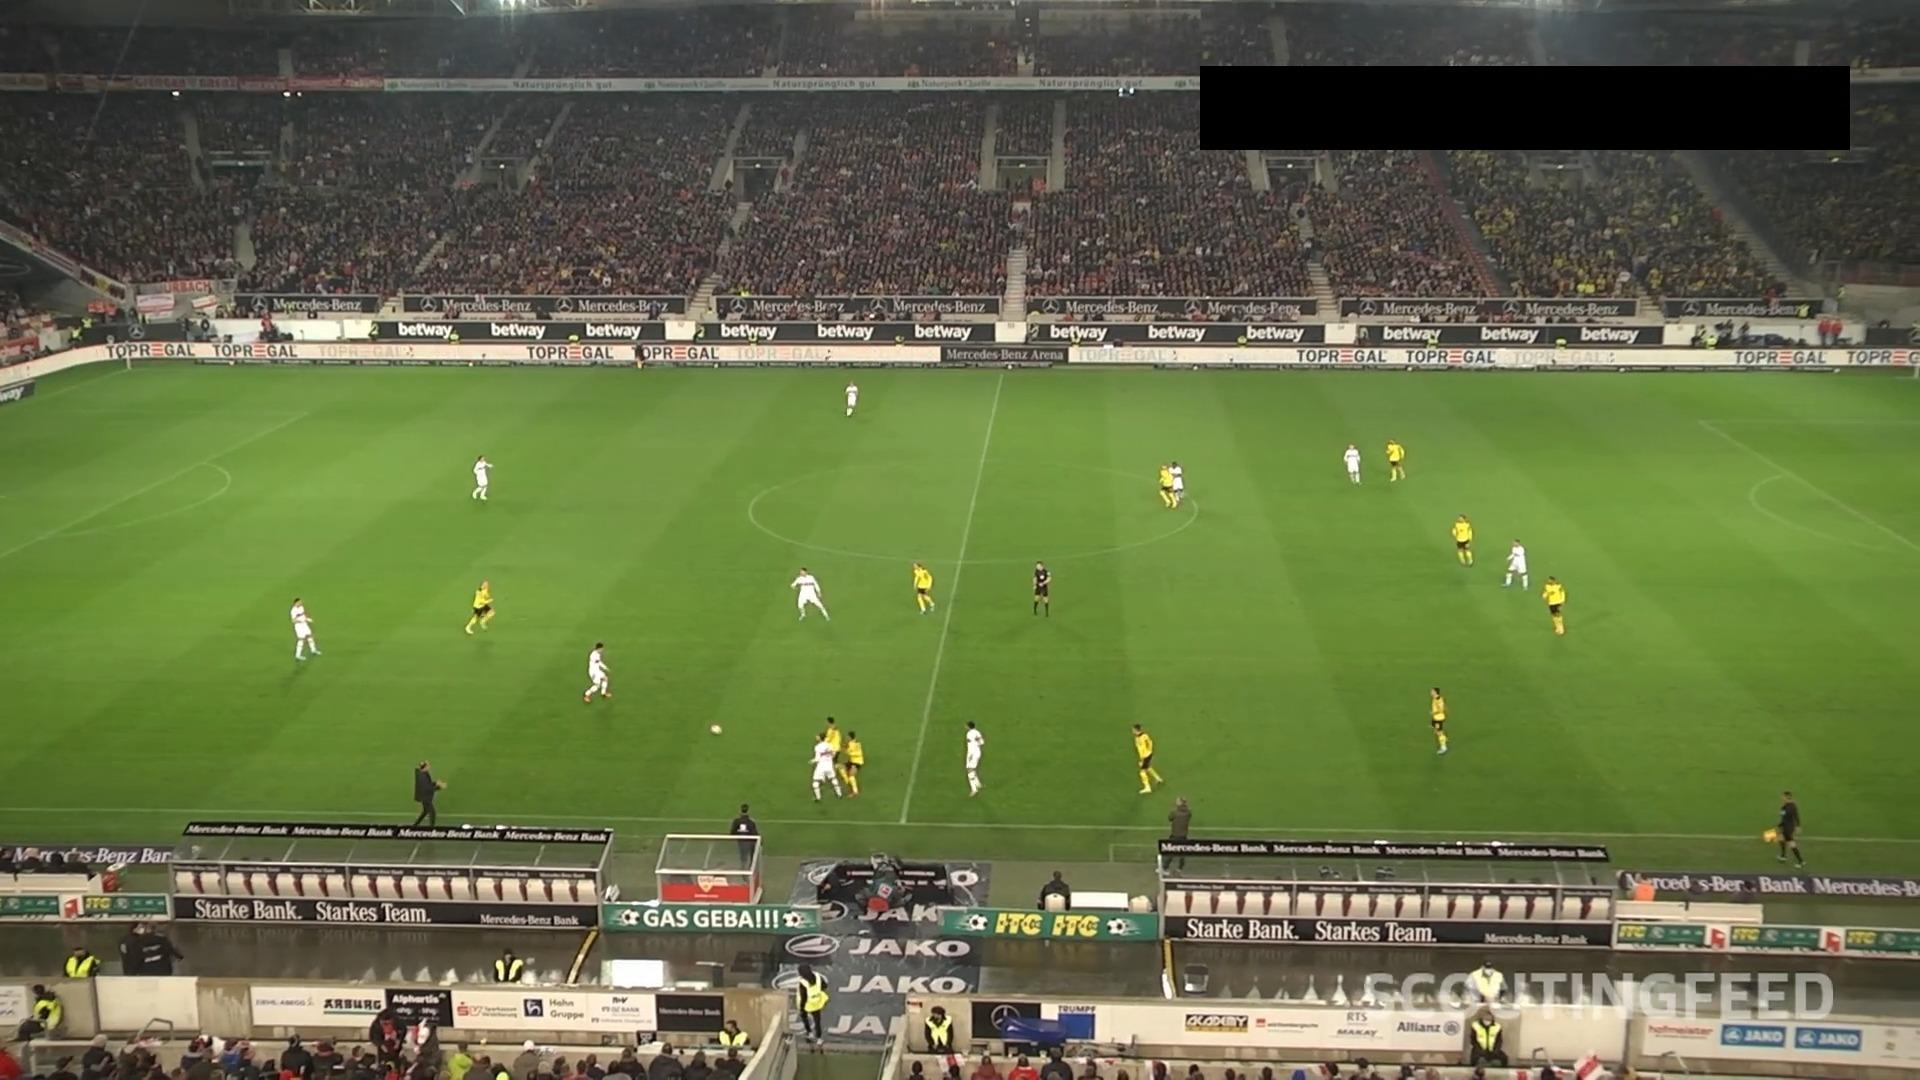ball: (709, 724, 723, 737)
